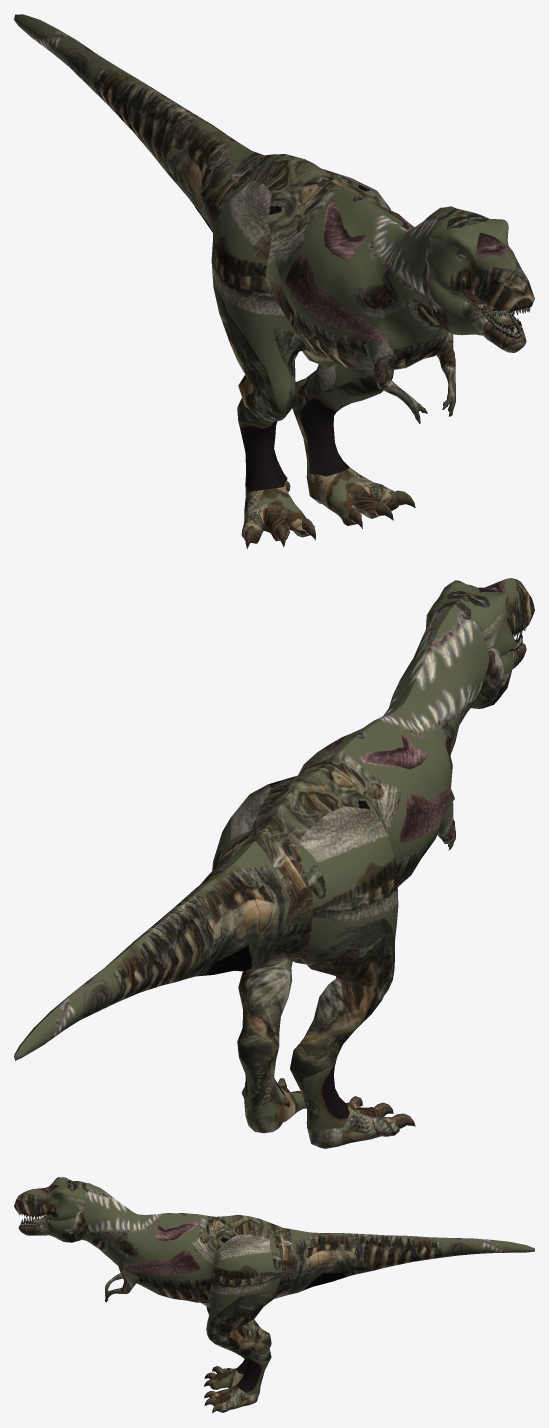
File: trex.obj
The picture shows the model from 3 angles, top to bottom: view 1: azimuth 30°, elevation 25°; view 2: azimuth 150°, elevation 25°; view 3: azimuth 270°, elevation 25°; orthographic projection. The views are drawn at different scales.
Visible parts, largest first — view 1: T_Rex; view 2: T_Rex; view 3: T_Rex.
Part boxes in pixels (x1=…): T_Rex: x1=14, y1=14, x2=534, y2=548; T_Rex: x1=14, y1=578, x2=534, y2=1148; T_Rex: x1=14, y1=1177, x2=534, y2=1413.
Size of the model in its own units: 0.6465 by 1.53 by 3.38.
1 material, 1 textured.
